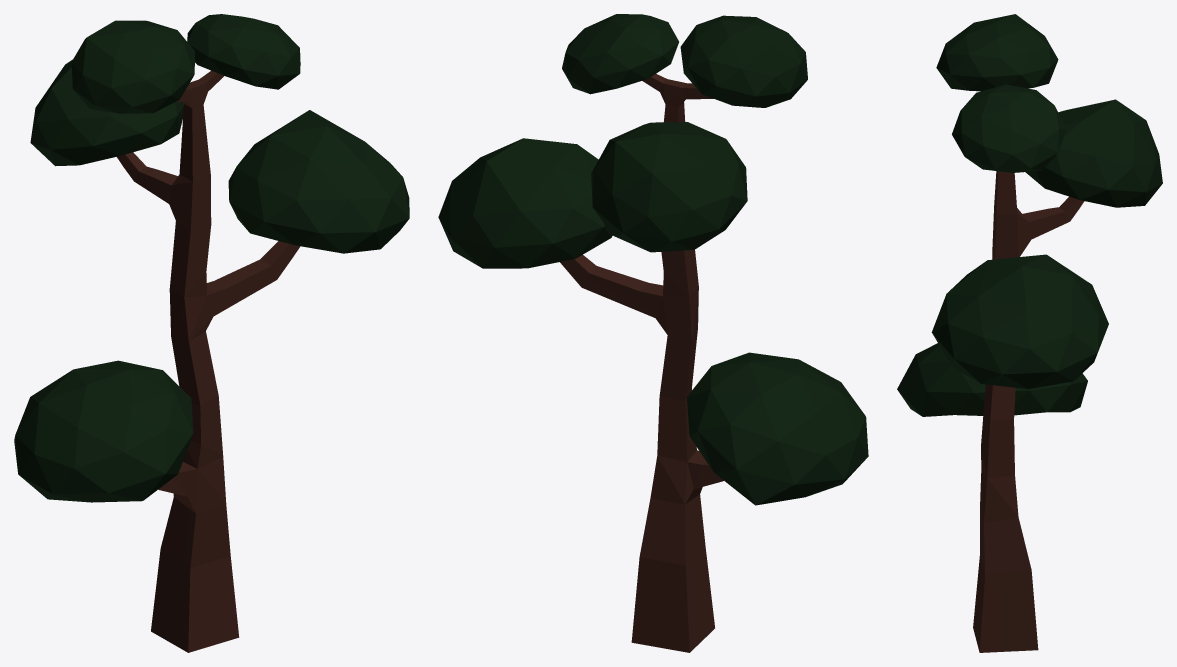
The model's file is cap_tree1.obj.
3 renders of one model, left to right at view 1: azimuth 30°, elevation 25°; view 2: azimuth 150°, elevation 25°; view 3: azimuth 270°, elevation 25°, orthographic. The views are drawn at different scales.
Parts seen in each view (by area): view 1: Tree6_3_Cube.042; view 2: Tree6_3_Cube.042; view 3: Tree6_3_Cube.042.
Part boxes in pixels (x1=…): Tree6_3_Cube.042: x1=14, y1=14, x2=409, y2=652; Tree6_3_Cube.042: x1=438, y1=14, x2=868, y2=652; Tree6_3_Cube.042: x1=897, y1=14, x2=1162, y2=652.
Size of the model in its own units: 5.48 by 8.46 by 3.5.
